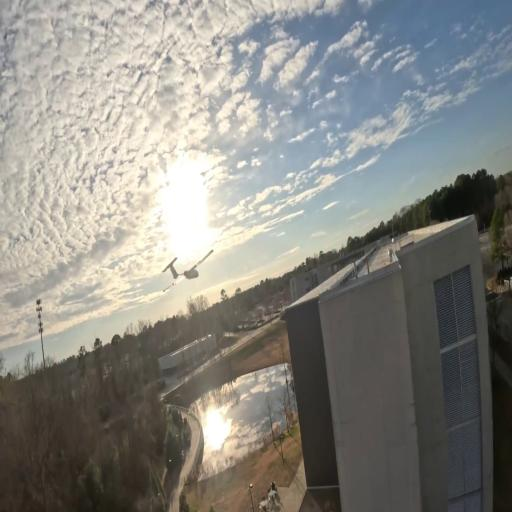uav: (160, 242, 216, 297)
